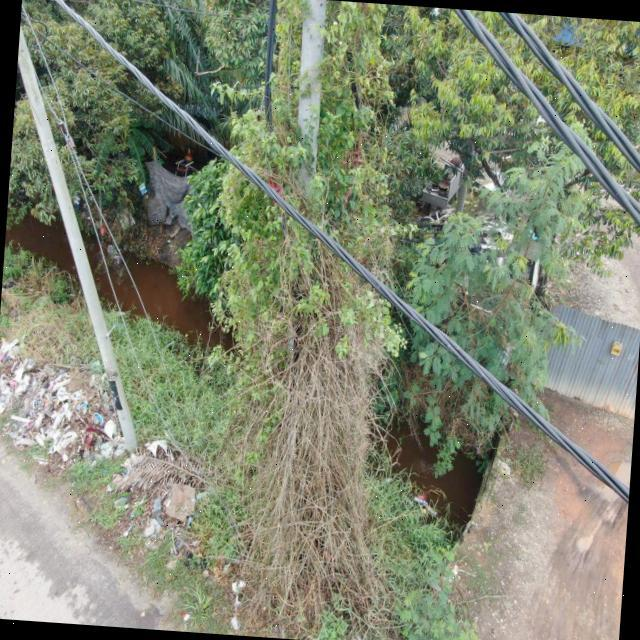critical vegetation: (202, 24, 382, 484)
